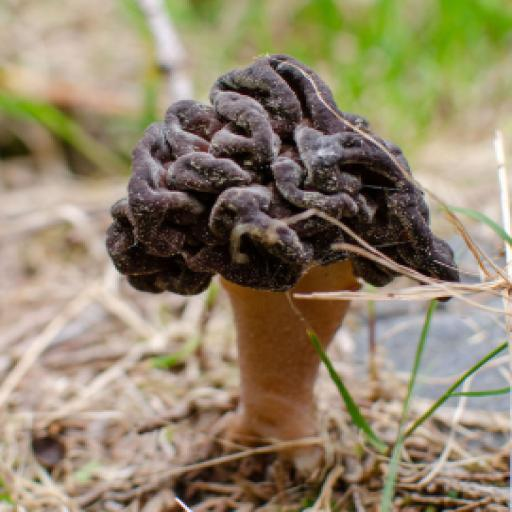mushroom: (86, 51, 467, 387)
